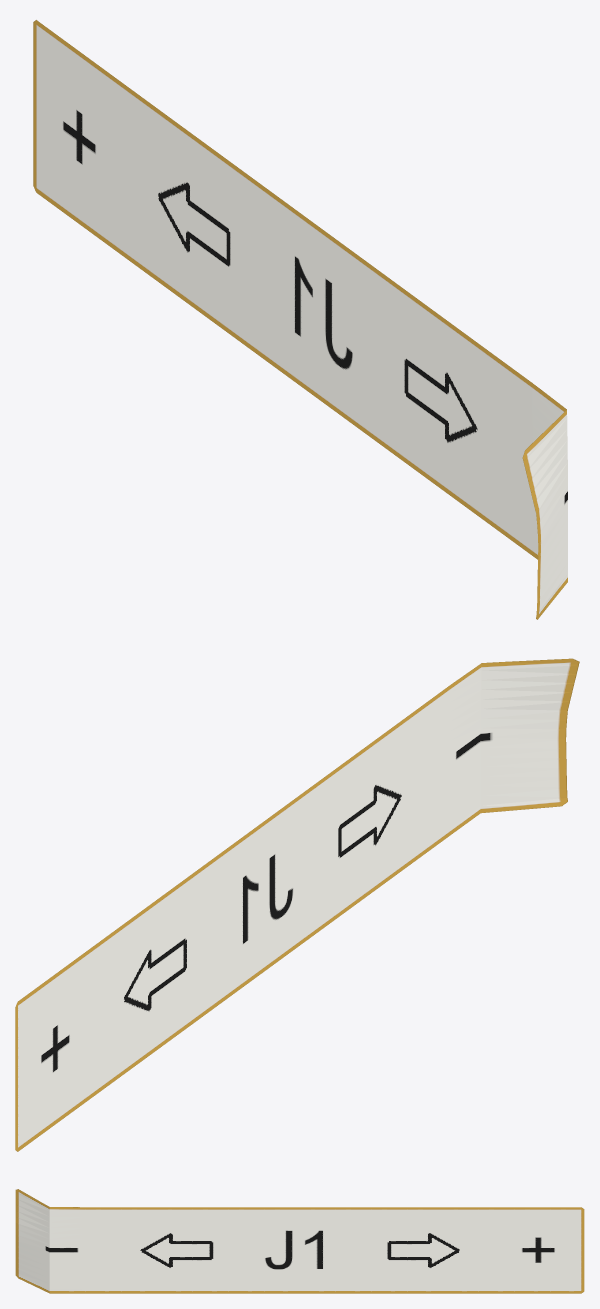
Rendered from J1_sticker_active.glb.
3 views of the same model, one above another, from view 1: azimuth 30°, elevation 25°; view 2: azimuth 150°, elevation 25°; view 3: azimuth 270°, elevation 25° (orthographic). The views are drawn at different scales.
Size of the model in its own units: 0.00602 by 0.012 by 0.07.
1 material, 1 textured.
